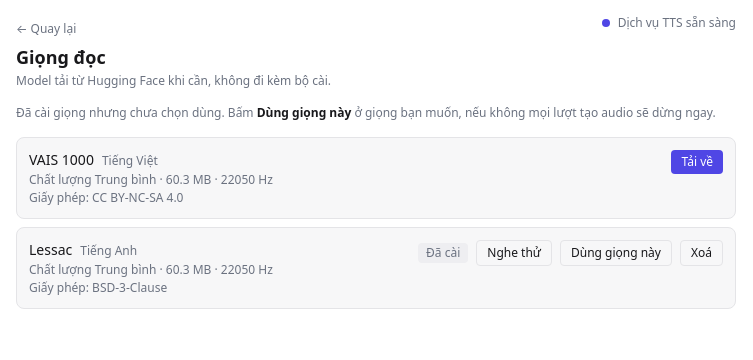
Scenario: tiến độ tải › đang tải thì nút đổi thành Huỷ
Expected: the number of list items with test id "voice-row" is 2, [16,137,736,219]; [16,227,736,309]
Click the button "Tải về".
click(697, 162)  # box [672,150,723,174]
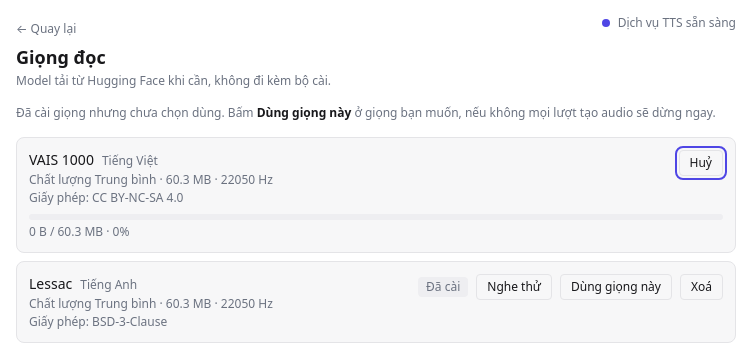
Expected: the button "Huỷ" is shown, [679,150,723,176]
